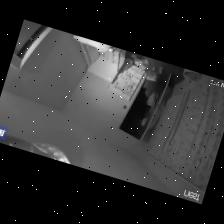person: (145, 66, 163, 96)
